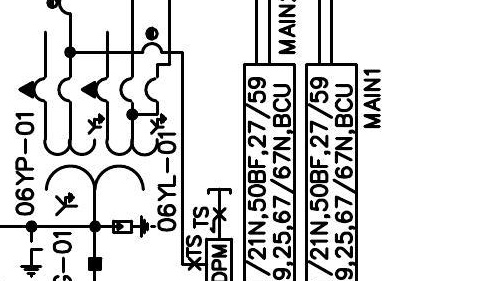115_gs: (19, 238, 44, 279)
115_la: (112, 214, 157, 239)
115_vt_3p: (17, 76, 168, 217)
